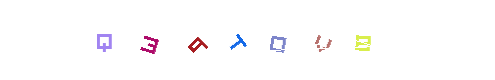0: (207, 0, 287, 80)
3: (140, 0, 220, 80)
8: (323, 0, 403, 80)
9: (156, 0, 236, 80)
Q: (110, 0, 190, 80)
T: (198, 0, 278, 80)
V: (246, 0, 326, 80)
